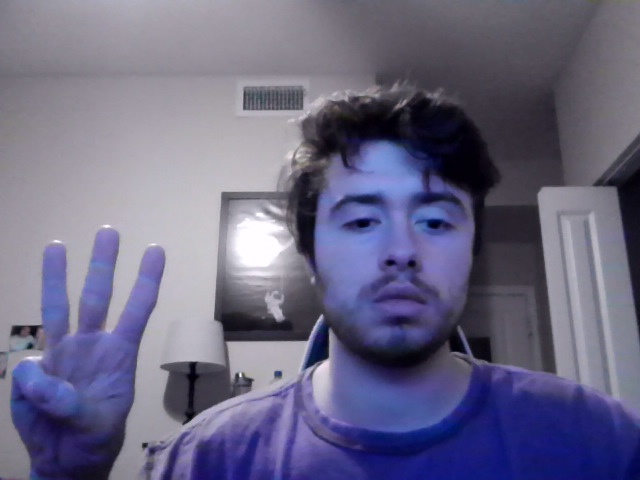w: (8, 225, 166, 480)
